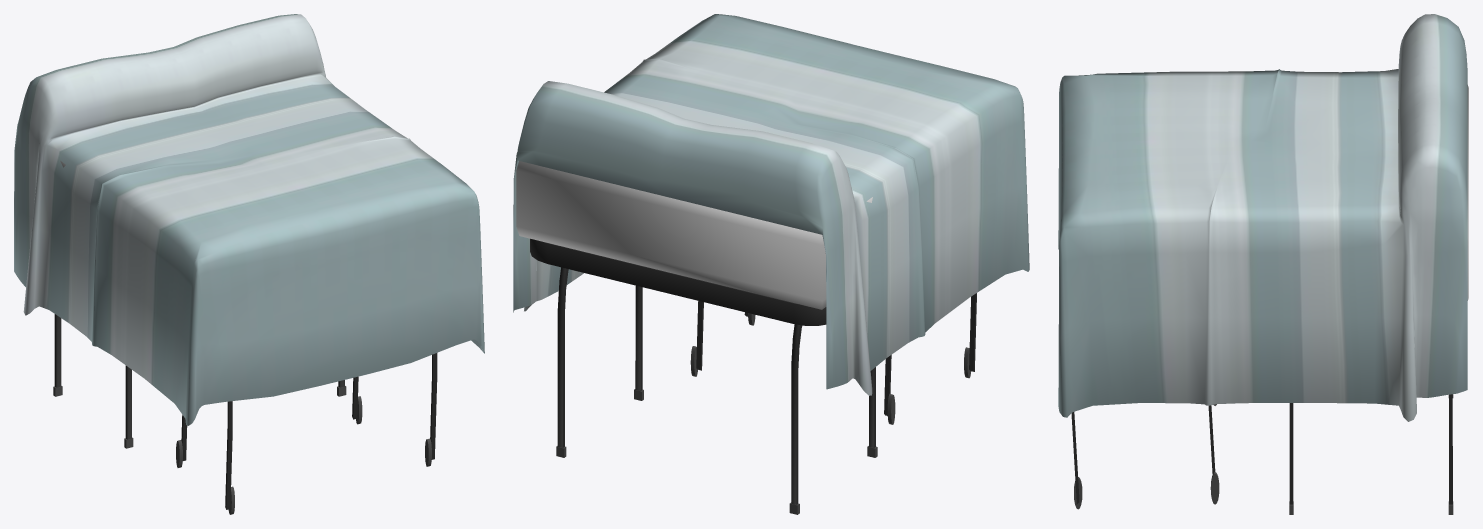
The model's file is sh-scopia-convertible-sofa-bz-opened.glb.
3 renders of one model, left to right at view 1: azimuth 30°, elevation 25°; view 2: azimuth 150°, elevation 25°; view 3: azimuth 270°, elevation 25°, orthographic. The views are drawn at different scales.
Visible parts, largest first — view 1: Colcha_Plane.001, Cube; view 2: Colcha_Plane.001, Cube.001, Cube; view 3: Colcha_Plane.001, Cube.
Part boxes in pixels (box(x1,y1,x2,y2)): Colcha_Plane.001: box(14, 14, 484, 425); Cube: box(53, 314, 437, 514); Colcha_Plane.001: box(513, 14, 1029, 395); Cube.001: box(516, 161, 872, 309); Cube: box(530, 238, 976, 514); Colcha_Plane.001: box(1058, 14, 1467, 421); Cube: box(1071, 394, 1453, 514).
Size of the model in its own units: 1 by 1 by 1.
4 materials, 1 textured.
